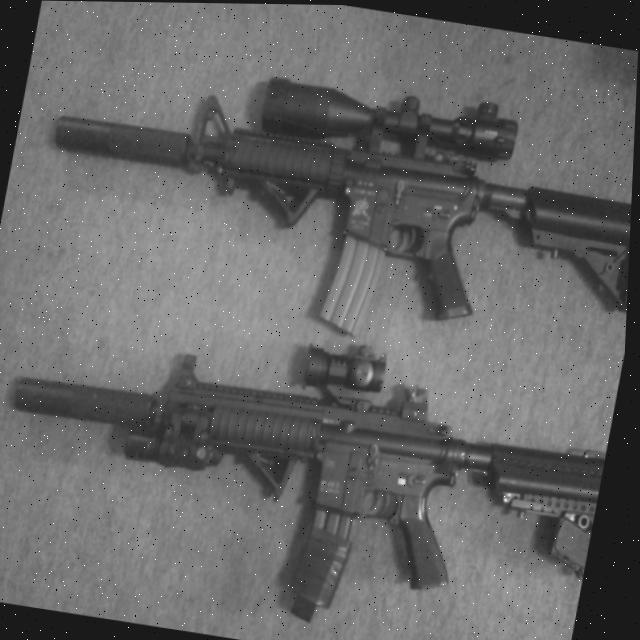firearm: (0, 293, 625, 640), (25, 32, 639, 371)
